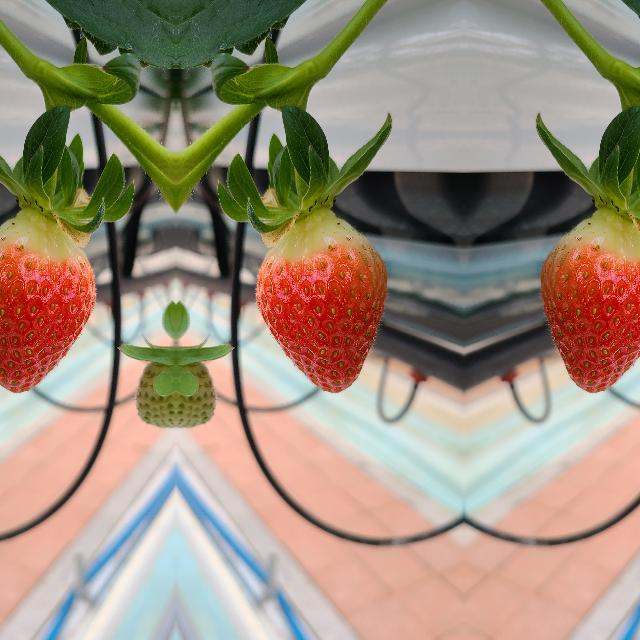Health_100: (252, 207, 388, 393), (538, 207, 640, 393), (0, 207, 97, 393)
Health_25: (176, 348, 214, 437), (136, 348, 174, 437)
